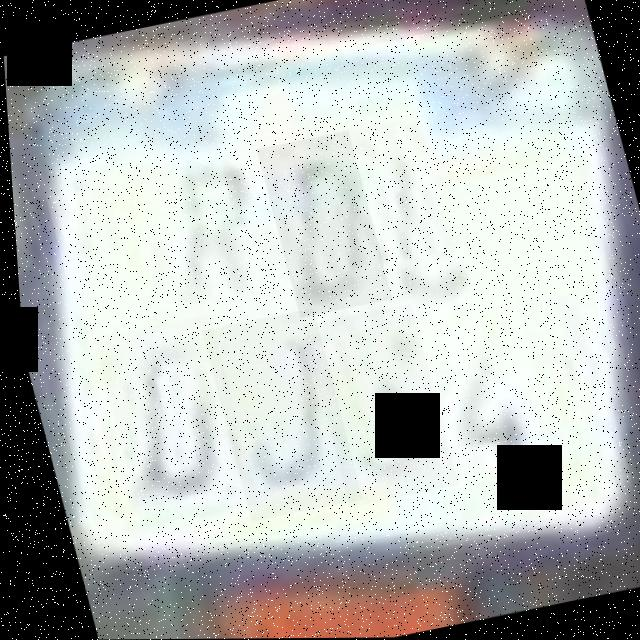0: (88, 315, 254, 528)
4: (395, 287, 553, 491)
6: (297, 304, 453, 507)
J: (196, 308, 357, 522), (350, 123, 488, 304)
O: (253, 131, 389, 319)
